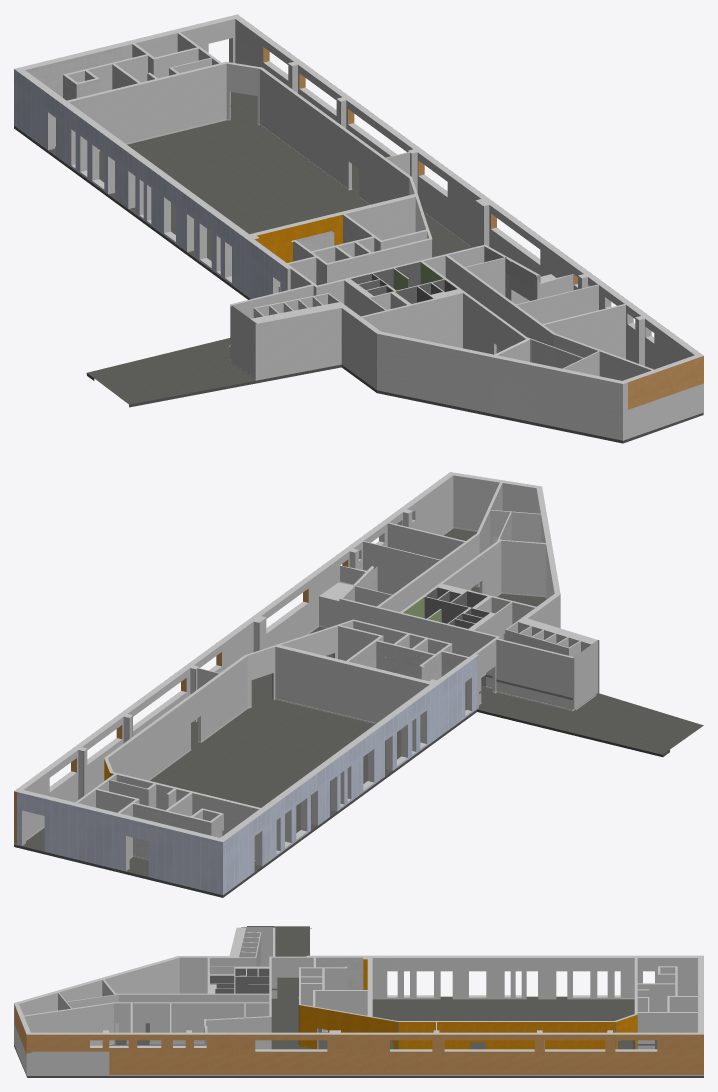
Rendered from -1_floor_aisle_b_sized.glb.
The picture shows the model from 3 angles, top to bottom: view 1: azimuth 30°, elevation 25°; view 2: azimuth 150°, elevation 25°; view 3: azimuth 270°, elevation 25°; orthographic projection. The views are drawn at different scales.
Visible parts, largest first — view 1: Cube_001, Cube; view 2: Cube_001, Cube; view 3: Cube_001, Cube.
Boxes of the visible parts, x1=… form: Cube_001: x1=14, y1=14, x2=703, y2=440; Cube: x1=14, y1=92, x2=703, y2=443; Cube_001: x1=14, y1=472, x2=599, y2=895; Cube: x1=14, y1=528, x2=703, y2=897; Cube_001: x1=14, y1=927, x2=703, y2=1075; Cube: x1=14, y1=926, x2=703, y2=1077.
Size of the model in its own units: 31.23 by 4.21 by 60.74.
13 materials, 9 textured.
